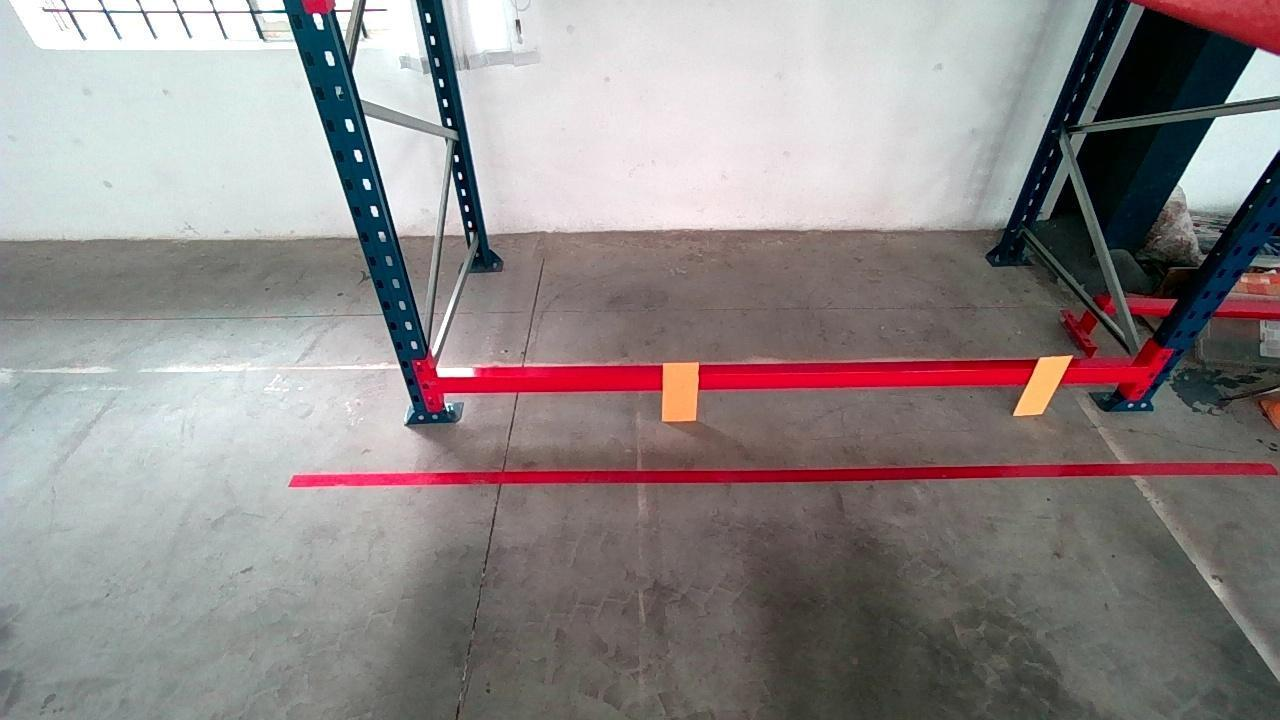h_rack: (436, 358, 1139, 398)
orange_strip: (1014, 355, 1076, 414), (662, 361, 700, 420)
red_line: (291, 459, 1272, 488)
